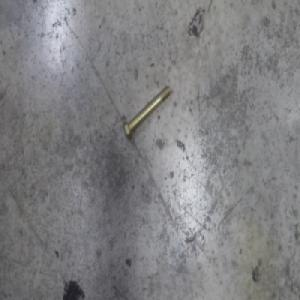Bolt: (124, 83, 174, 140)
